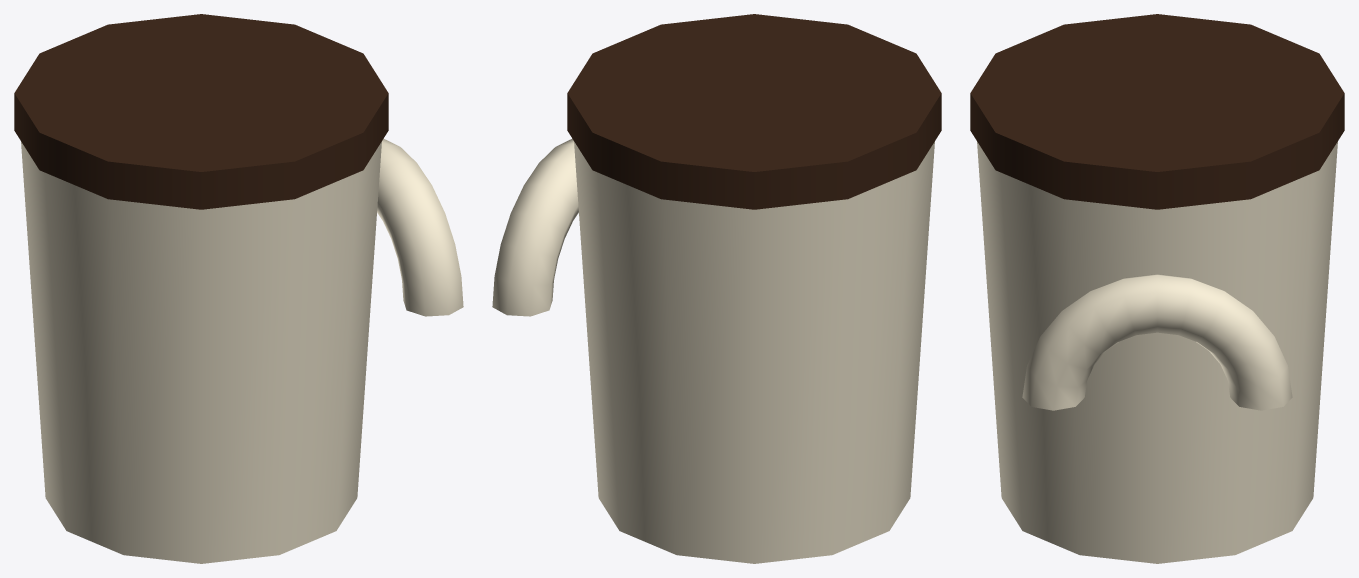
Rendered from prop-cup.glb.
3 renders of one model, left to right at view 1: azimuth 30°, elevation 25°; view 2: azimuth 150°, elevation 25°; view 3: azimuth 270°, elevation 25°, orthographic.
Visible parts, largest first — view 1: propVisual; view 2: propVisual; view 3: propVisual.
Part boxes in pixels (x1,y1,x2,y2): propVisual: (14, 14, 463, 563); propVisual: (492, 14, 941, 563); propVisual: (970, 14, 1344, 563).
Size of the model in its own units: 0.082 by 0.086 by 0.072.
